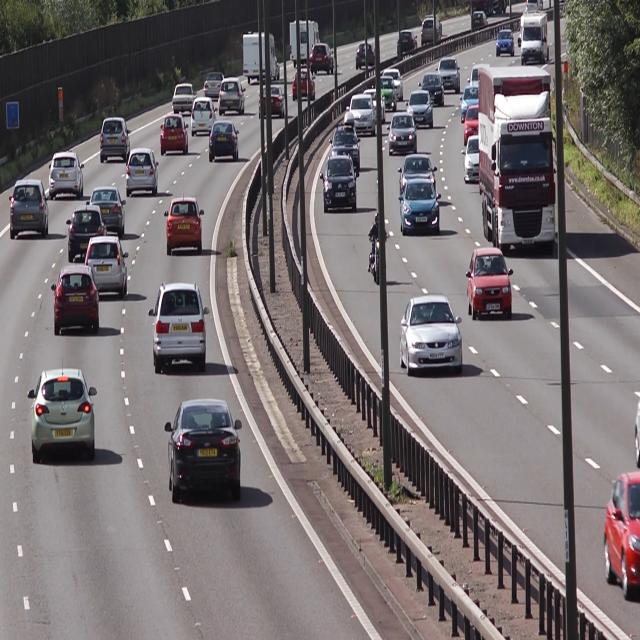Car: (477, 64, 556, 251), (163, 396, 245, 505), (26, 369, 99, 464), (401, 292, 465, 378), (150, 278, 206, 374), (50, 263, 100, 337), (467, 246, 512, 321), (86, 236, 132, 303), (66, 206, 111, 268), (163, 194, 207, 256), (9, 179, 52, 241), (320, 154, 361, 215), (399, 178, 443, 234), (86, 183, 127, 238), (331, 108, 364, 174), (47, 150, 86, 203), (397, 149, 441, 192), (126, 147, 160, 199), (98, 115, 133, 165), (386, 111, 418, 158), (209, 118, 240, 164), (160, 112, 192, 155), (190, 95, 220, 140), (350, 86, 376, 137), (407, 87, 435, 131), (218, 77, 247, 118), (464, 139, 484, 186), (173, 81, 198, 118)
